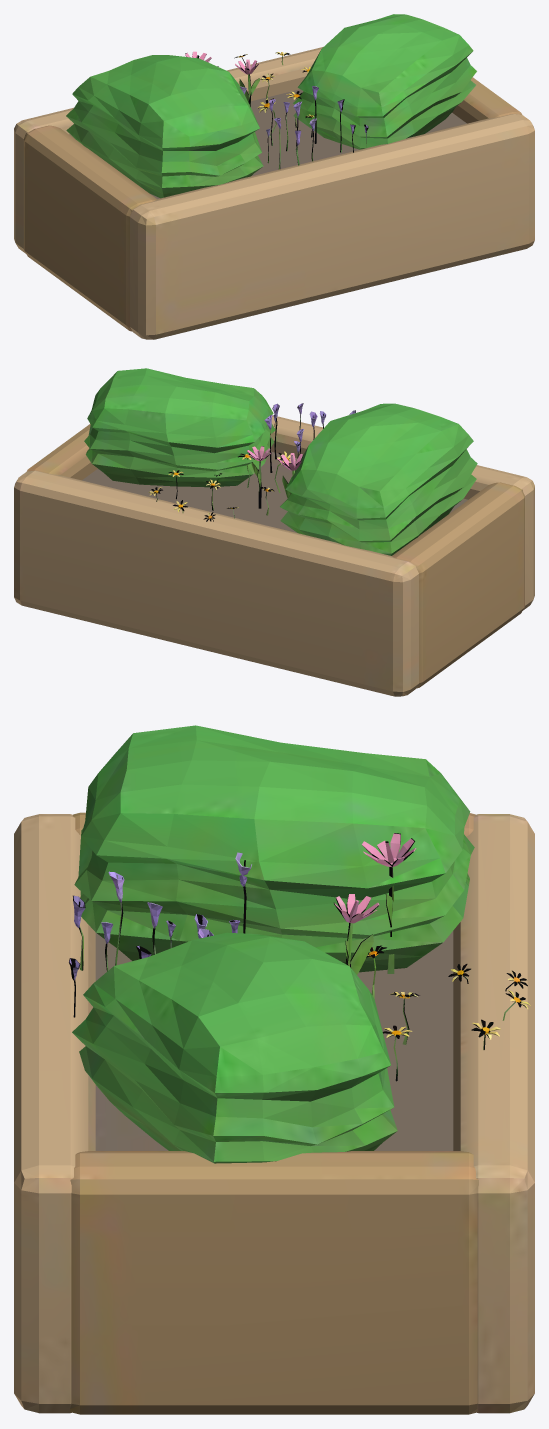
Rendered from plaza_planter_filled.glb.
3 views of the same model, one above another, from view 1: azimuth 30°, elevation 25°; view 2: azimuth 150°, elevation 25°; view 3: azimuth 270°, elevation 25° (orthographic). The views are drawn at different scales.
Parts seen in each view (by area): view 1: plaza_planter_filled; view 2: plaza_planter_filled; view 3: plaza_planter_filled.
Boxes of the visible parts, x1,y1,x2,y2 form: plaza_planter_filled: [14, 14, 534, 339]; plaza_planter_filled: [14, 368, 534, 696]; plaza_planter_filled: [14, 725, 534, 1414].
Bounding box in the file's own units: 1.76 × 0.85 × 1.04.
1 material, 1 textured.
